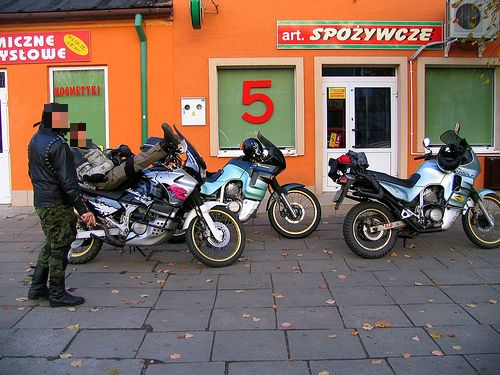bike: (47, 126, 247, 268), (329, 124, 500, 258), (150, 127, 326, 242)
